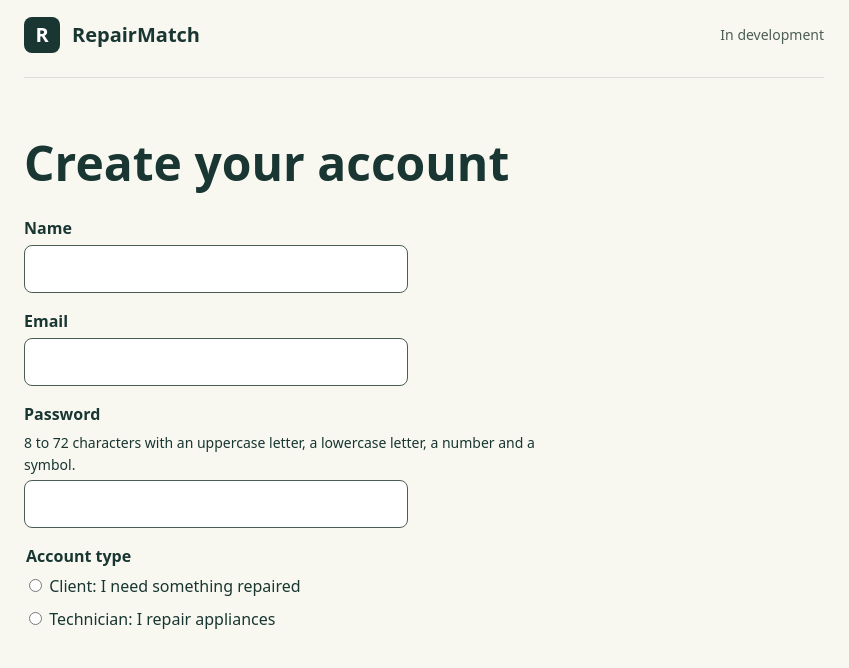
Test: register form › shows the server message for a duplicate email
The image size is (849, 668).
Step 1. Type "Test Client" into the field labelled "Name" → (216, 269), box [24,245,408,293]
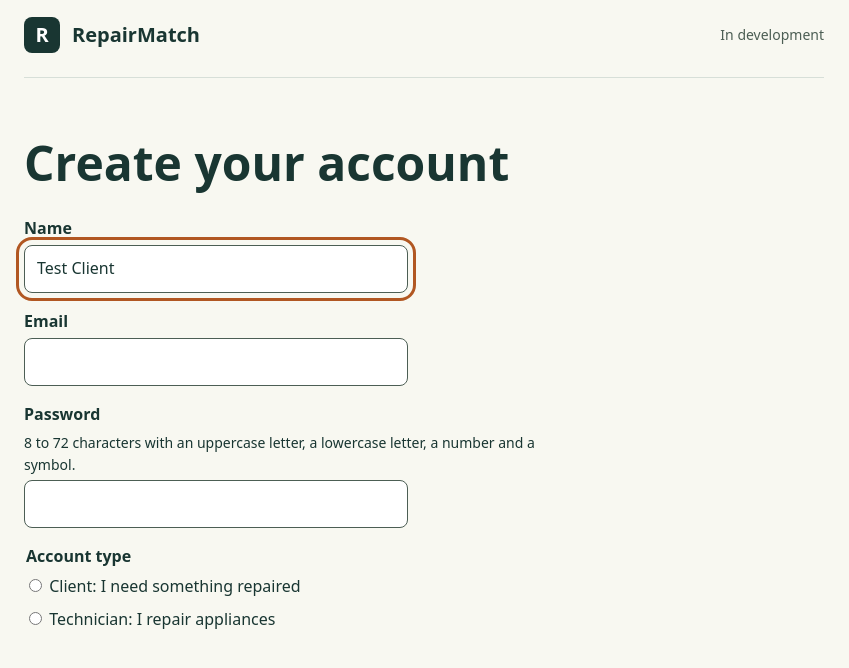
Step 2. Type "client@example.test" into the field labelled "Email" → (216, 362), box [24,338,408,386]
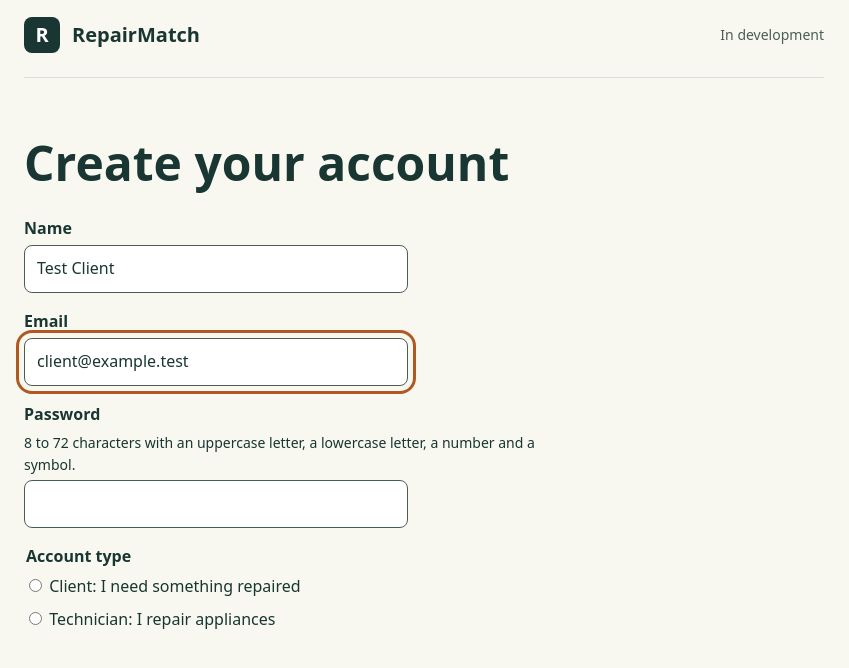
Step 3. Type "Test-pass-1" into the password field labelled "Password" → (216, 504), box [24,480,408,528]
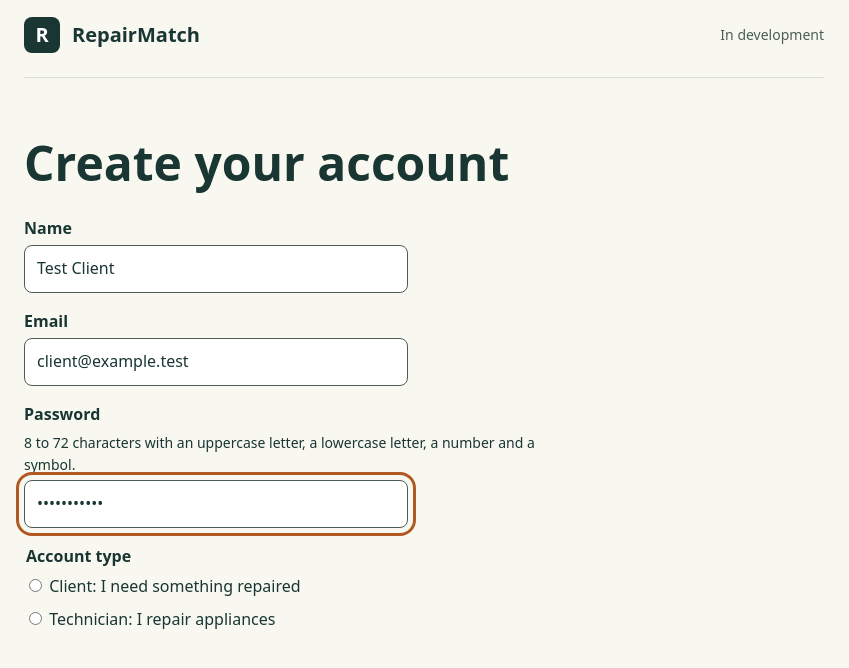
Step 4. Click the radio button labelled "Client: I need something repaired" → (36, 585), box [29,578,42,592]
(page scrolled)
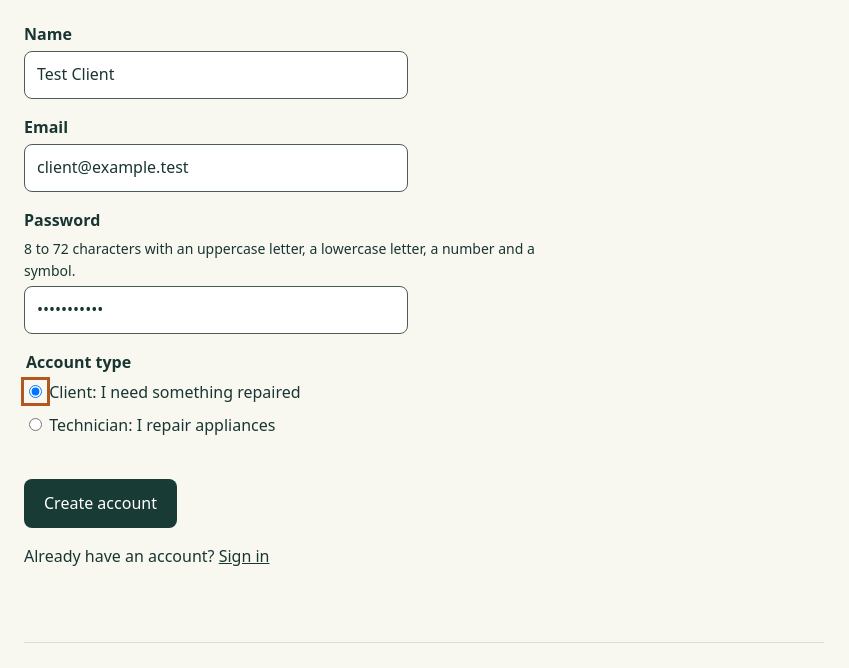
Step 5. Click the button "Create account" → (100, 504), box [24,479,177,528]
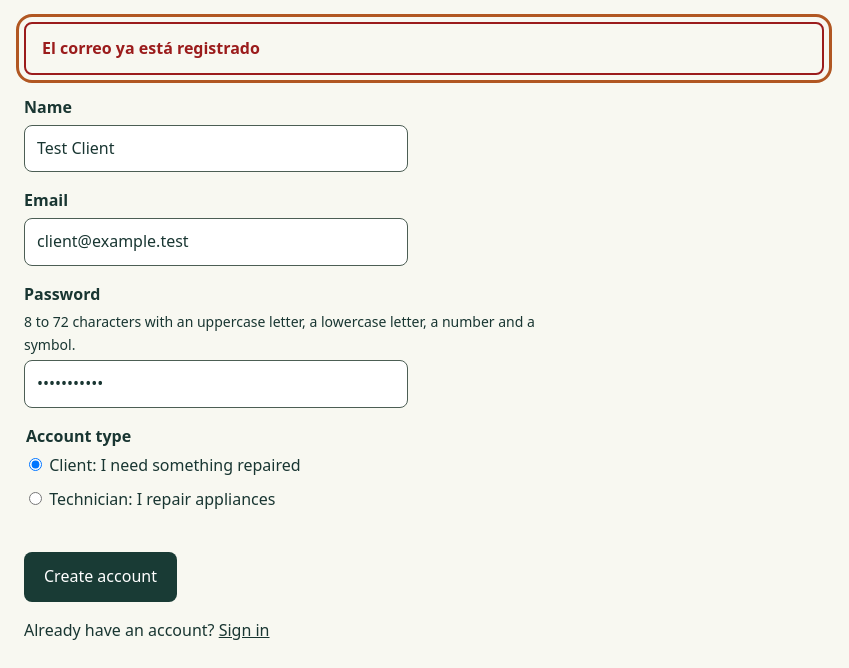
Check: the button "Create account" is enabled, box [24,552,177,602]
Check: the message reads "El correo ya está registrado", box [42,37,260,59]
